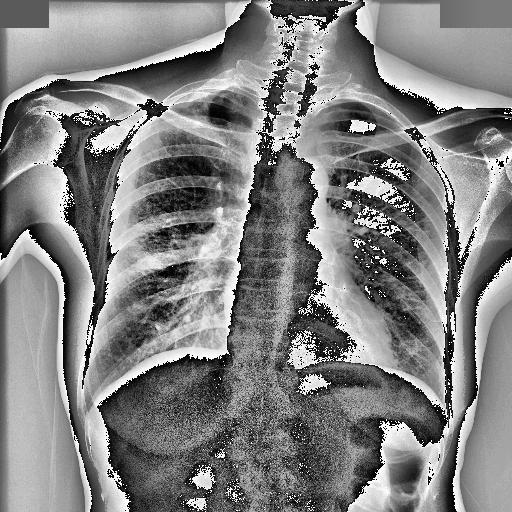0- Aortic enlargement: (276, 155, 328, 218), (276, 156, 328, 196)
11- Pleural thickening: (166, 82, 234, 110), (167, 86, 243, 104)
9- Other lesion: (228, 198, 283, 402)
